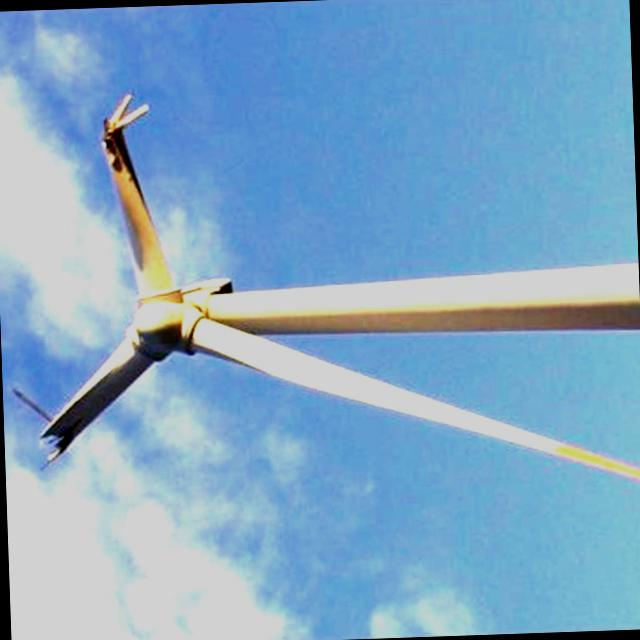crack: (81, 74, 162, 181), (3, 376, 84, 482)
